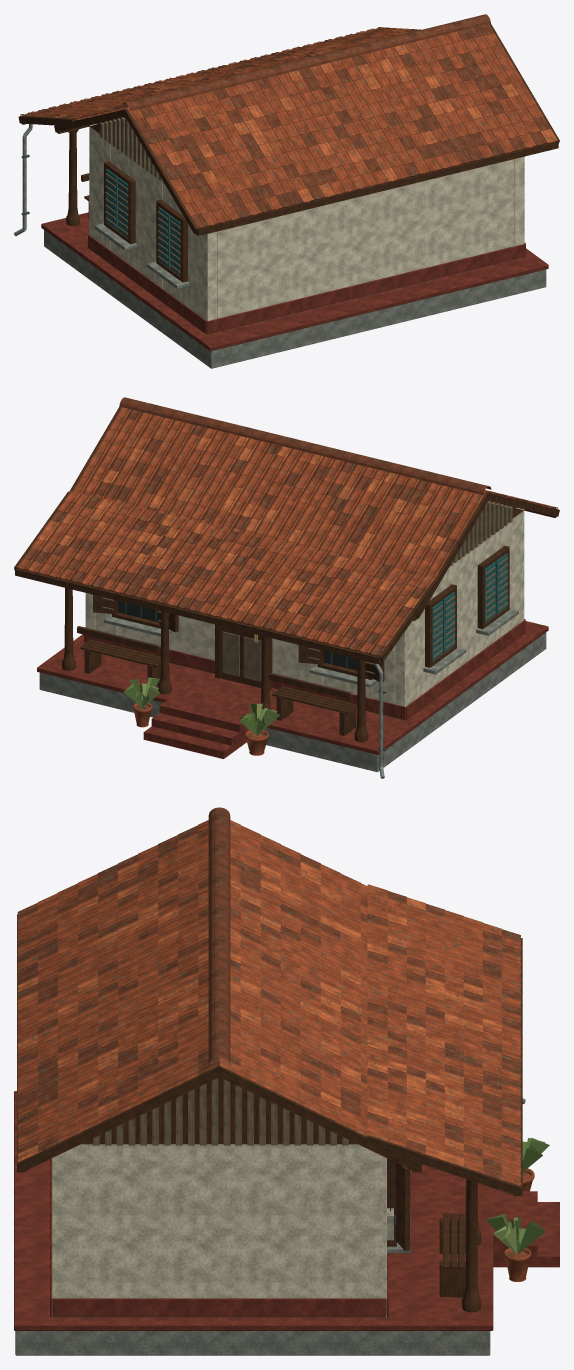
Rendered from BLD_Home_Verandah_01.gltf.
The picture shows the model from 3 angles, top to bottom: view 1: azimuth 30°, elevation 25°; view 2: azimuth 150°, elevation 25°; view 3: azimuth 270°, elevation 25°; orthographic projection. The views are drawn at different scales.
Visible parts, largest first — view 1: TF3_BLD_Home_Verandah_01; view 2: TF3_BLD_Home_Verandah_01; view 3: TF3_BLD_Home_Verandah_01.
Part boxes in pixels (<box>): TF3_BLD_Home_Verandah_01: <box>14,14,559,368</box>; TF3_BLD_Home_Verandah_01: <box>14,397,559,778</box>; TF3_BLD_Home_Verandah_01: <box>14,807,559,1355</box>.
Size of the model in its own units: 8.13 by 4.57 by 7.36.
Materials: 19 (11 with a texture image).
